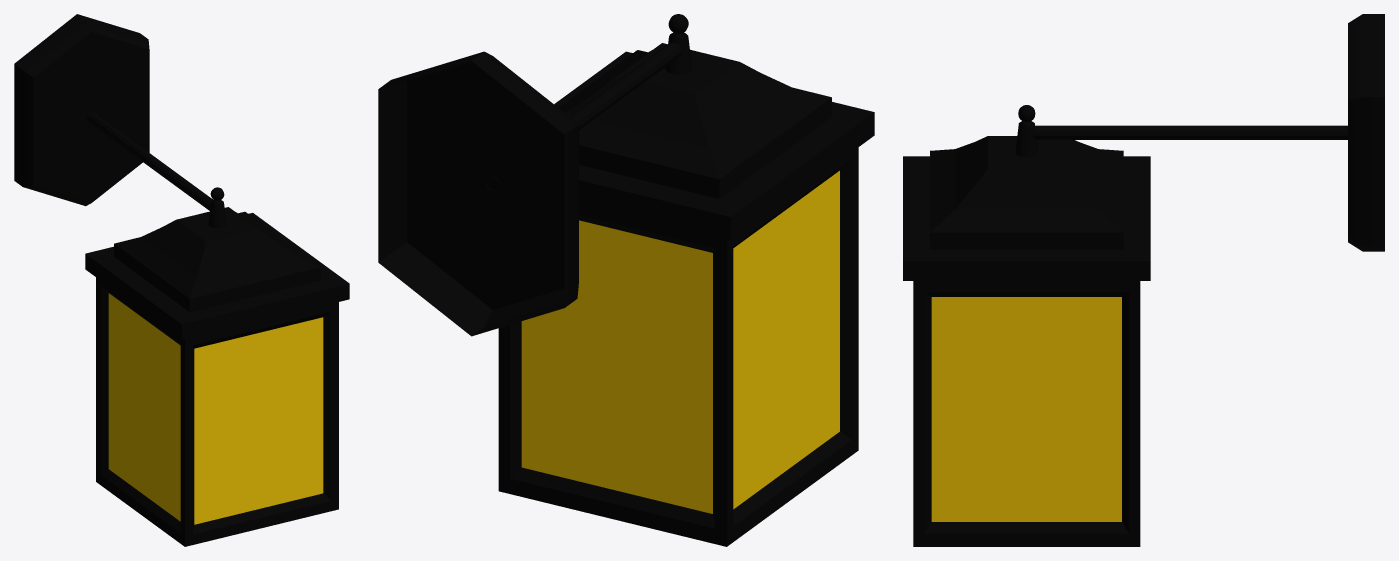
Rendered from 3dm_Lantern.fbx.
3 views of the same model, side by side, from view 1: azimuth 30°, elevation 25°; view 2: azimuth 150°, elevation 25°; view 3: azimuth 270°, elevation 25° (orthographic). The views are drawn at different scales.
Visible parts, largest first — view 1: Lantern1, Glass, Base1, Arm2, Lantern2; view 2: Glass, Lantern1, Base1, Arm2, Lantern2; view 3: Lantern1, Glass, Base1, Arm2, Lantern2.
Part boxes in pixels (x1,y1,x2,y2): Lantern1: [85, 207, 349, 546]; Glass: [108, 293, 323, 524]; Base1: [14, 14, 149, 206]; Arm2: [86, 112, 212, 210]; Lantern2: [208, 200, 226, 228]; Glass: [521, 170, 839, 513]; Lantern1: [498, 43, 874, 546]; Base1: [378, 51, 578, 336]; Arm2: [485, 42, 682, 190]; Lantern2: [665, 32, 691, 74]; Lantern1: [903, 136, 1150, 546]; Glass: [931, 297, 1121, 521]; Base1: [1348, 14, 1384, 251]; Arm2: [1033, 125, 1347, 139]; Lantern2: [1015, 121, 1037, 156].
Bounding box in the file's own units: 16.03 × 34.64 × 31.21.
